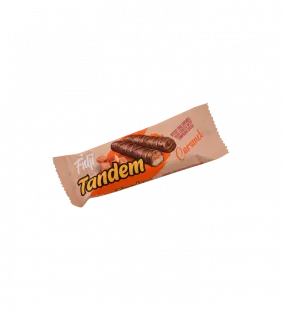FIDJI: (44, 92, 236, 212)
